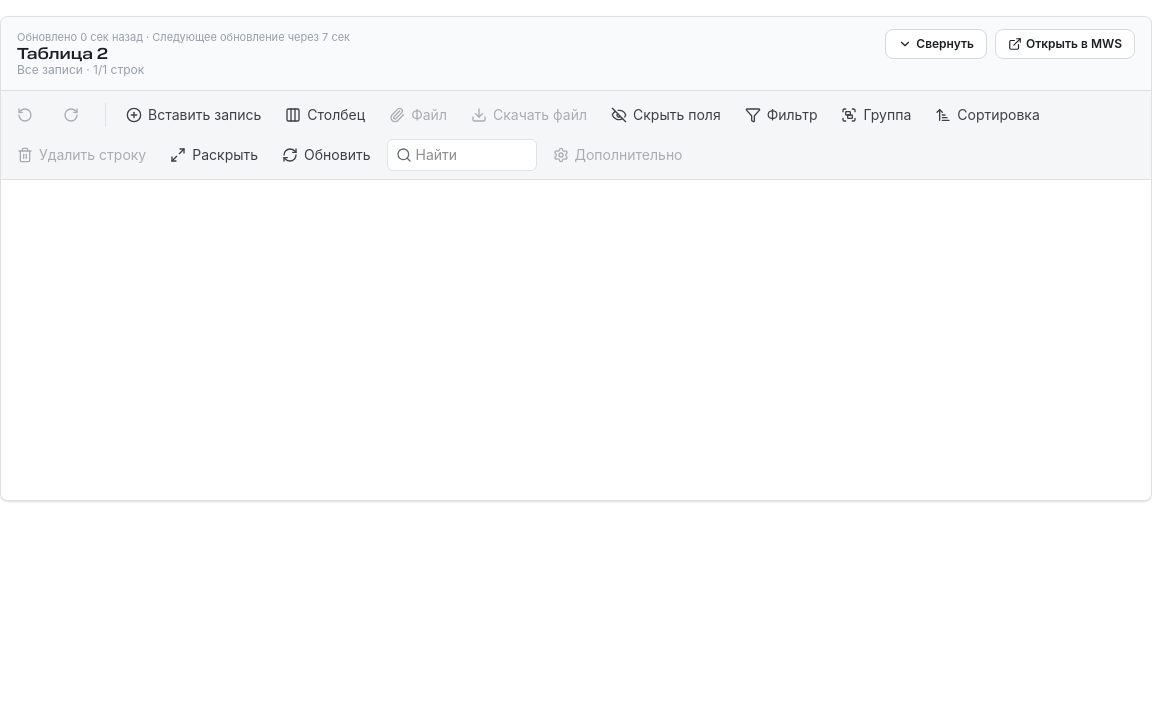
it: MwsTableEmbedComponent › opens the group modal from the toolbar
The width and height of the screenshot is (1152, 720).
Click the button "Группа" at x=876, y=114, box [834,98,919,130]
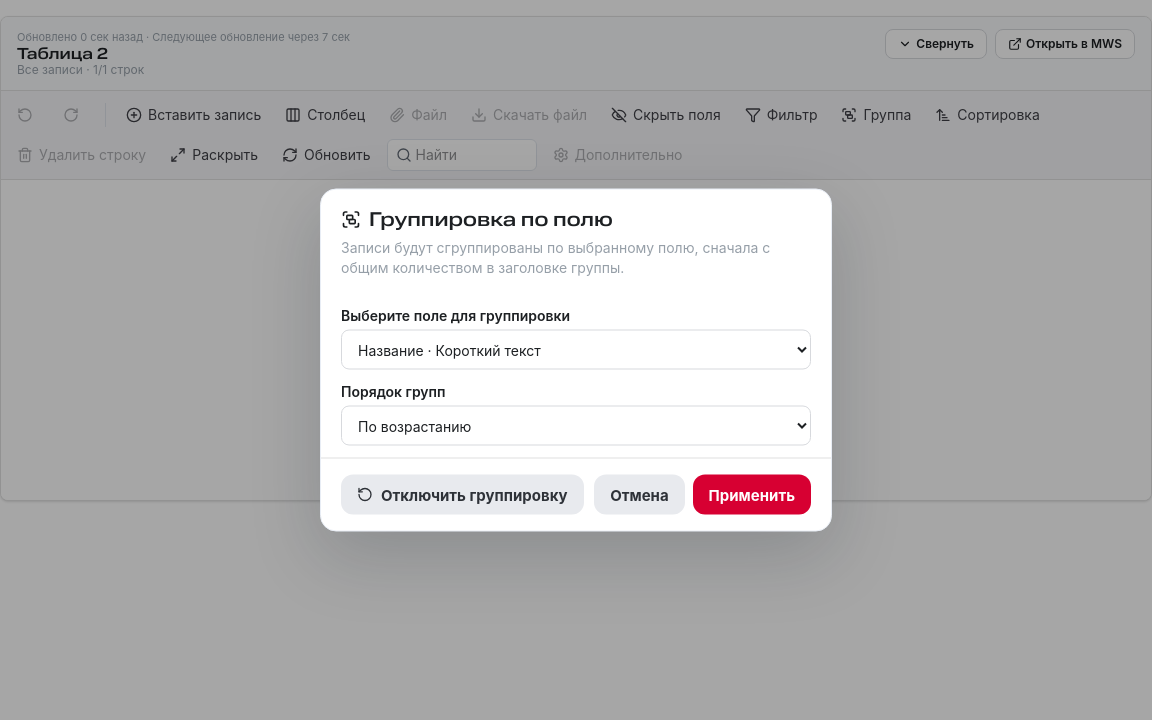
Expected: the dialog "Группировка по полю" is shown, [320,188,832,532]
